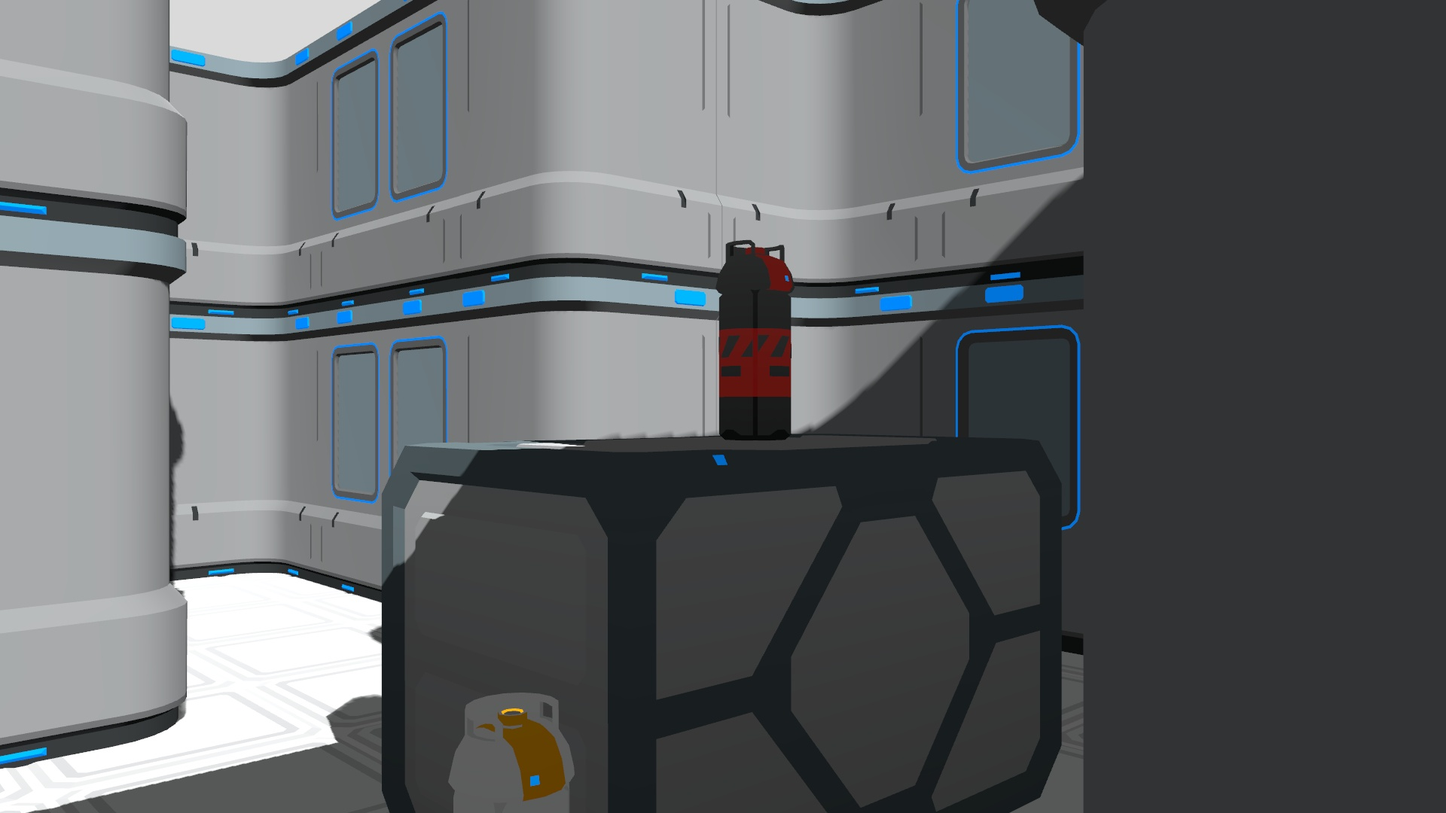red_barrel: (712, 233, 801, 446)
yellow_barrel: (450, 691, 581, 813)
